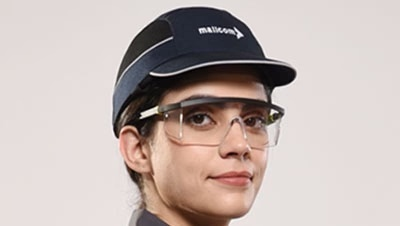safety_goggles: (124, 97, 315, 151)
